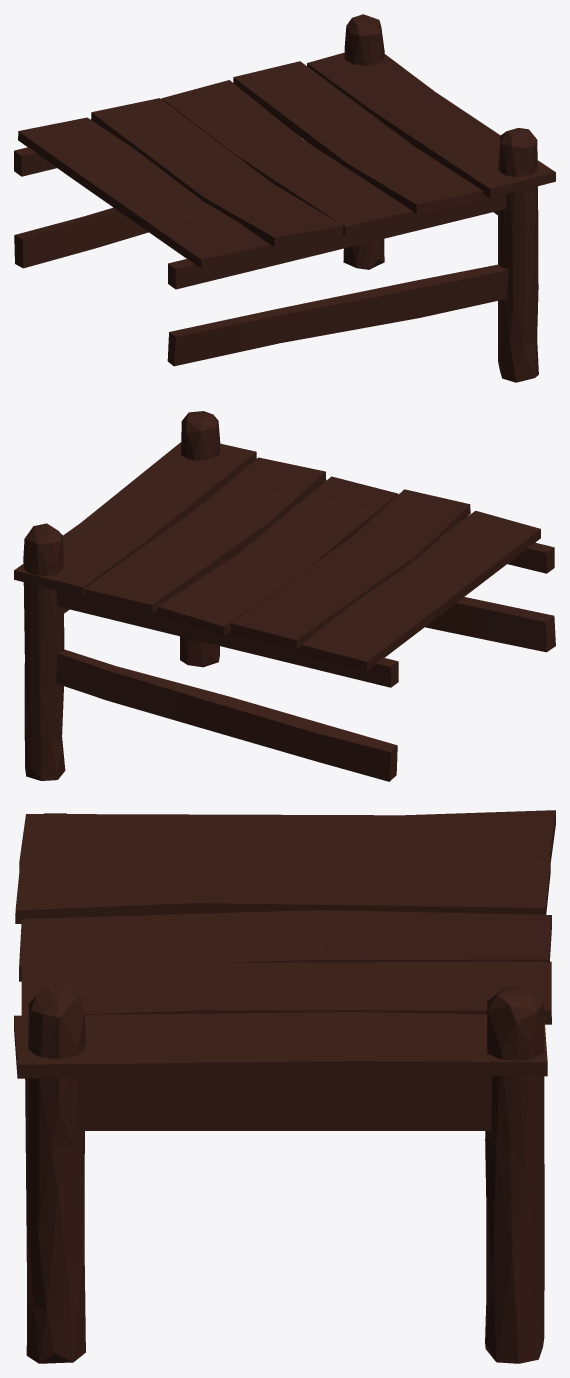
Rendered from port_wooden_bridge_a_short.FBX.
3 views of the same model, one above another, from view 1: azimuth 30°, elevation 25°; view 2: azimuth 150°, elevation 25°; view 3: azimuth 270°, elevation 25° (orthographic). The views are drawn at different scales.
Visible parts, largest first — view 1: port_wooden_bridge_a_short; view 2: port_wooden_bridge_a_short; view 3: port_wooden_bridge_a_short.
Part boxes in pixels (x1,y1,x2,y2): port_wooden_bridge_a_short: (14,14,555,382); port_wooden_bridge_a_short: (14,411,555,781); port_wooden_bridge_a_short: (14,810,555,1363).
Size of the model in its own units: 419 by 260 by 354.
